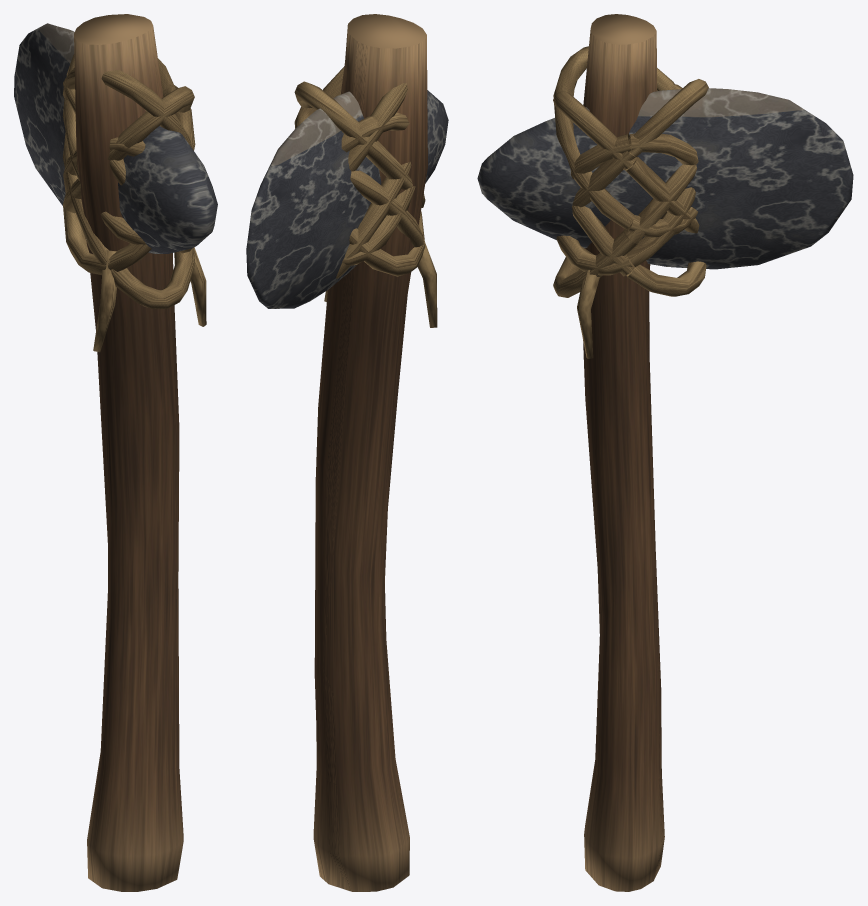
The model's file is hatchet_stone.glb.
3 renders of one model, left to right at view 1: azimuth 30°, elevation 25°; view 2: azimuth 150°, elevation 25°; view 3: azimuth 270°, elevation 25°, orthographic. The views are drawn at different scales.
Visible parts, largest first — view 1: Hatchet_Stone; view 2: Hatchet_Stone; view 3: Hatchet_Stone.
Part boxes in pixels (box(x1,y1,x2,y2)): Hatchet_Stone: box(14, 14, 217, 891); Hatchet_Stone: box(246, 14, 448, 891); Hatchet_Stone: box(477, 14, 853, 891).
Bounding box in the file's own units: 0.0597 × 0.4329 × 0.1767.
3 materials, 3 textured.
